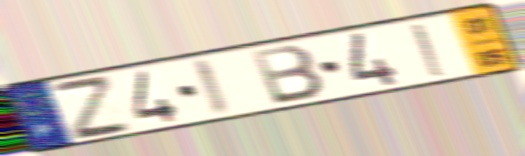4: (349, 30, 400, 89), (132, 67, 180, 124)
B: (248, 42, 328, 107)
I: (188, 55, 234, 118), (408, 21, 450, 80)
Z: (46, 75, 137, 144)
